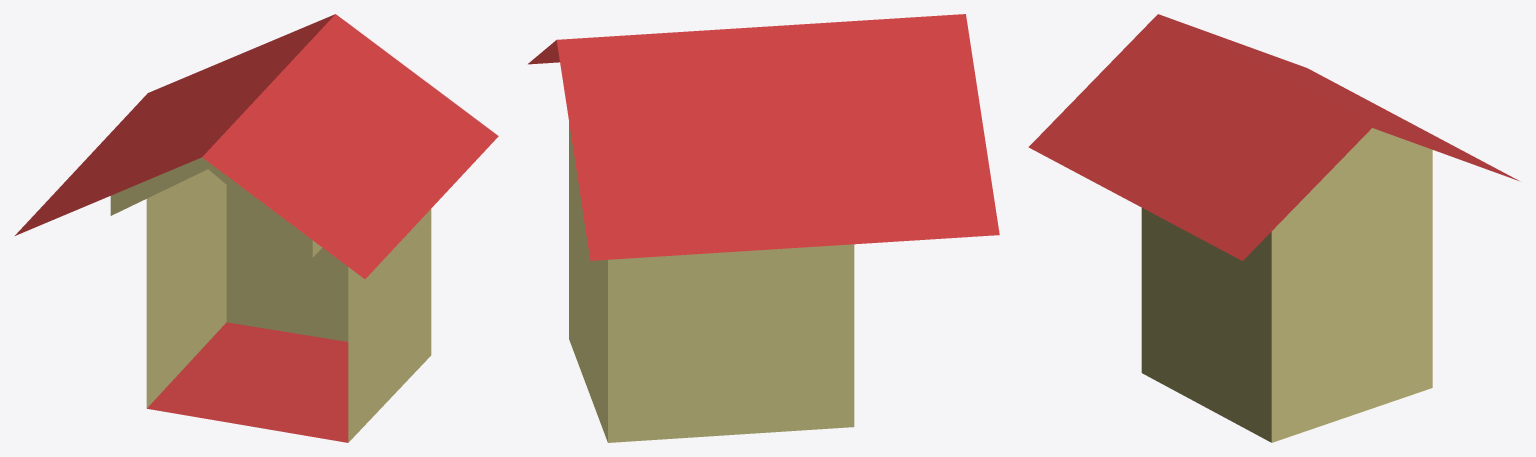
3 views of the same model, side by side, from view 1: azimuth 30°, elevation 25°; view 2: azimuth 150°, elevation 25°; view 3: azimuth 270°, elevation 25° (orthographic). The views are drawn at different scales.
Bounding box in the file's own units: 17.01 × 17.08 × 11.29.
